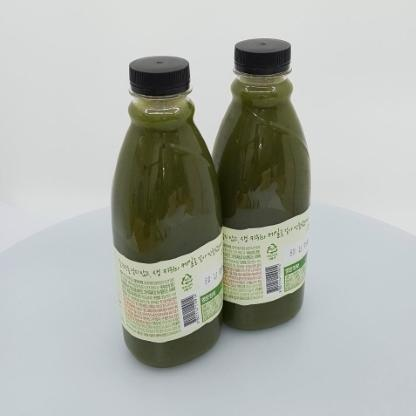-----------700ML: (110, 55, 223, 368), (208, 37, 311, 331)
